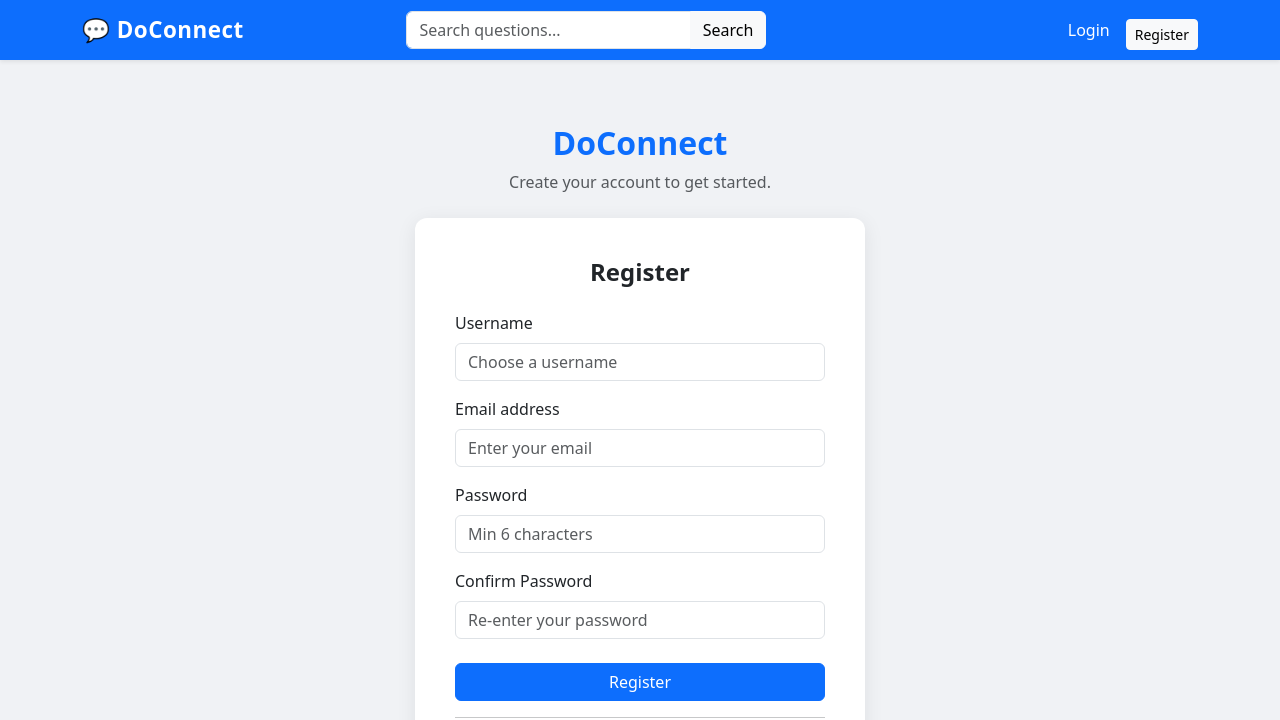
Scenario: DoConnect E2E Tests › Register Page › shows error when all fields are empty
Click the button "Register" below "Confirm Password": (640,682) x1=455 y1=663 x2=825 y2=701
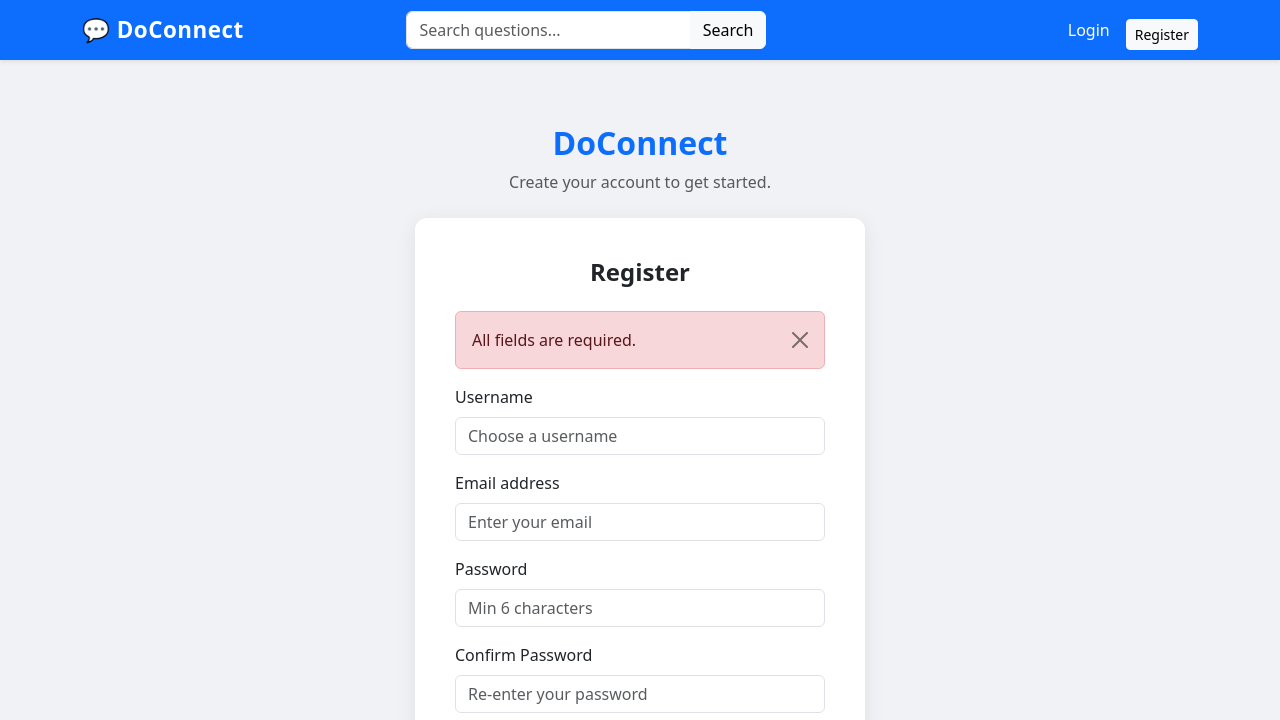
Expected: the text "All fields are required." is shown, x1=455 y1=311 x2=825 y2=369
